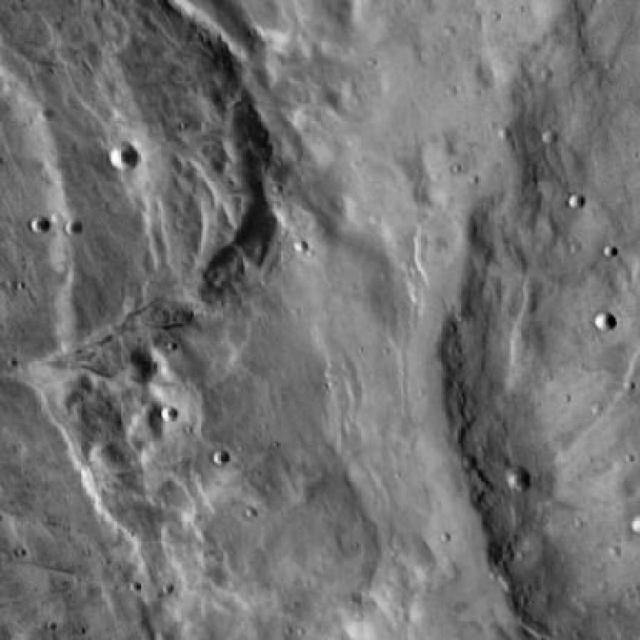crater: (0, 0, 271, 389), (109, 144, 138, 170), (504, 469, 534, 493), (598, 311, 619, 331), (620, 523, 640, 542), (63, 220, 82, 238), (32, 215, 49, 230)
